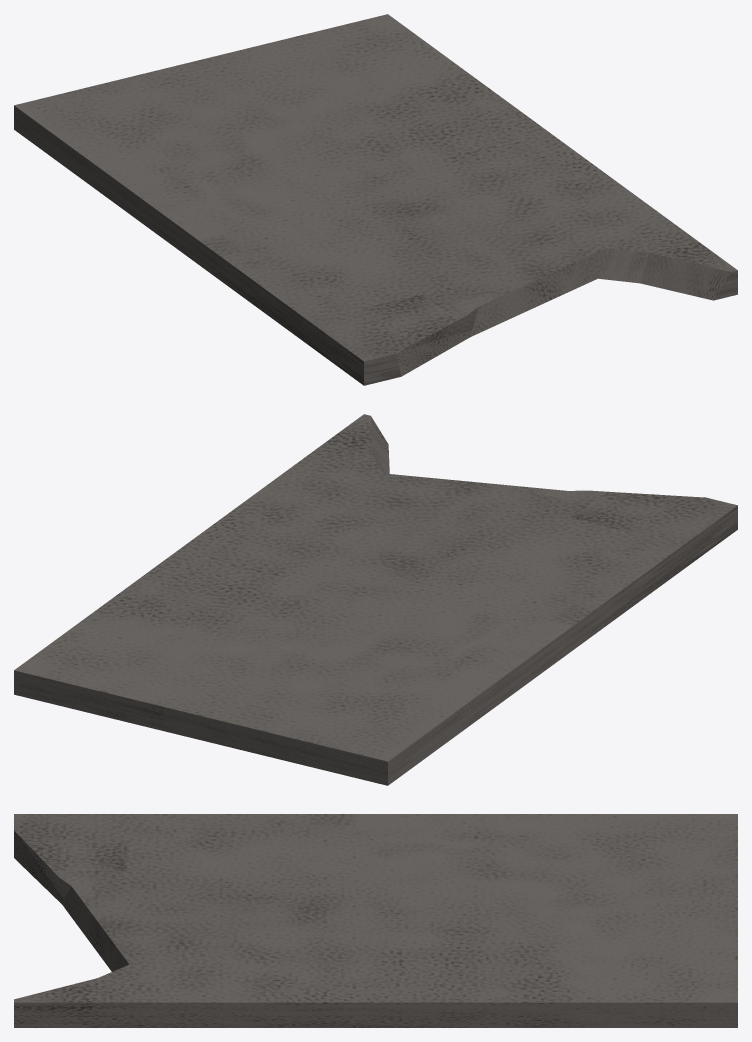
File: SM_subdpcieldrpoff.fbx
3 views of the same model, one above another, from view 1: azimuth 30°, elevation 25°; view 2: azimuth 150°, elevation 25°; view 3: azimuth 270°, elevation 25° (orthographic). The views are drawn at different scales.
Parts seen in each view (by area): view 1: Cube.017; view 2: Cube.017; view 3: Cube.017.
Part boxes in pixels (x1,y1,x2,y2): Cube.017: (14,14,737,385); Cube.017: (14,414,737,785); Cube.017: (14,814,737,1027).
Size of the model in its own units: 497 by 30.83 by 806.
